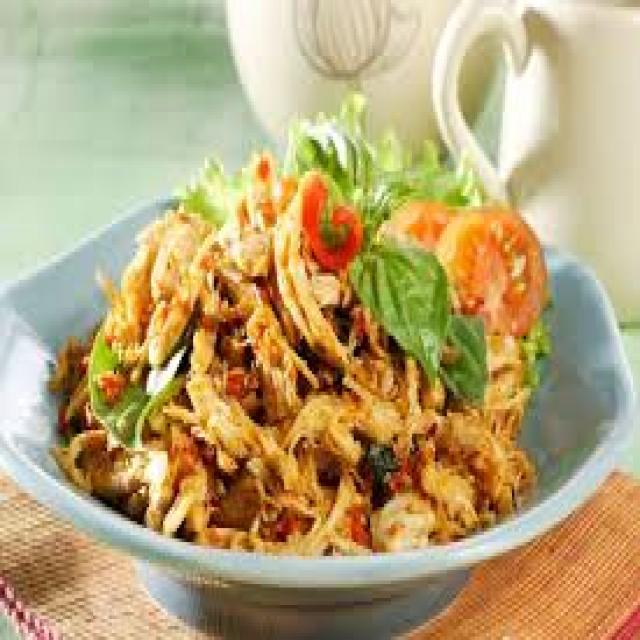ayam_suwir: (67, 165, 550, 559)
